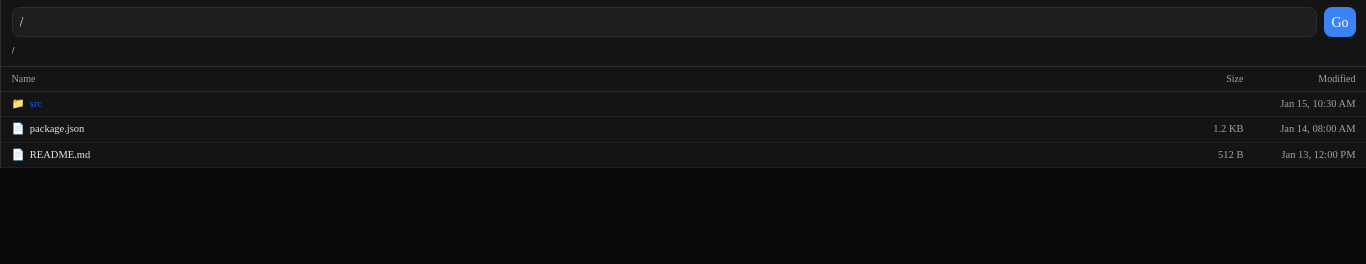
it: FileBrowser › loading states › shows "Loading file..." while fetching file content
Click the text "package.json" at (57, 129), box [30,123,84,134]
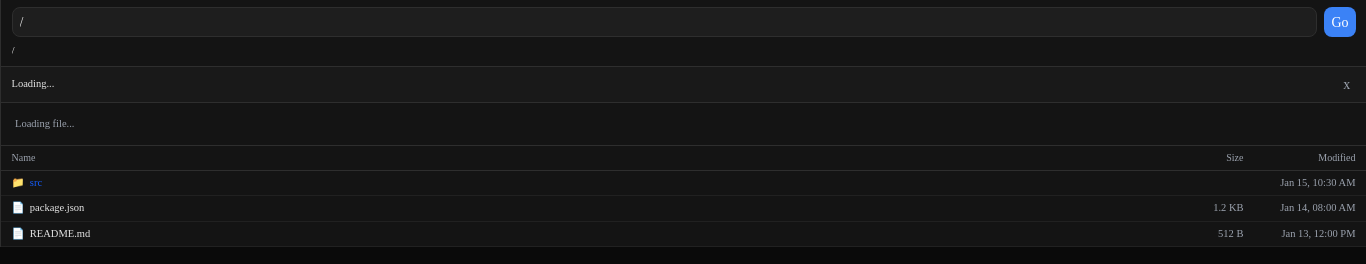
Check: the text "Loading file..." is shown, box [15,118,74,129]
